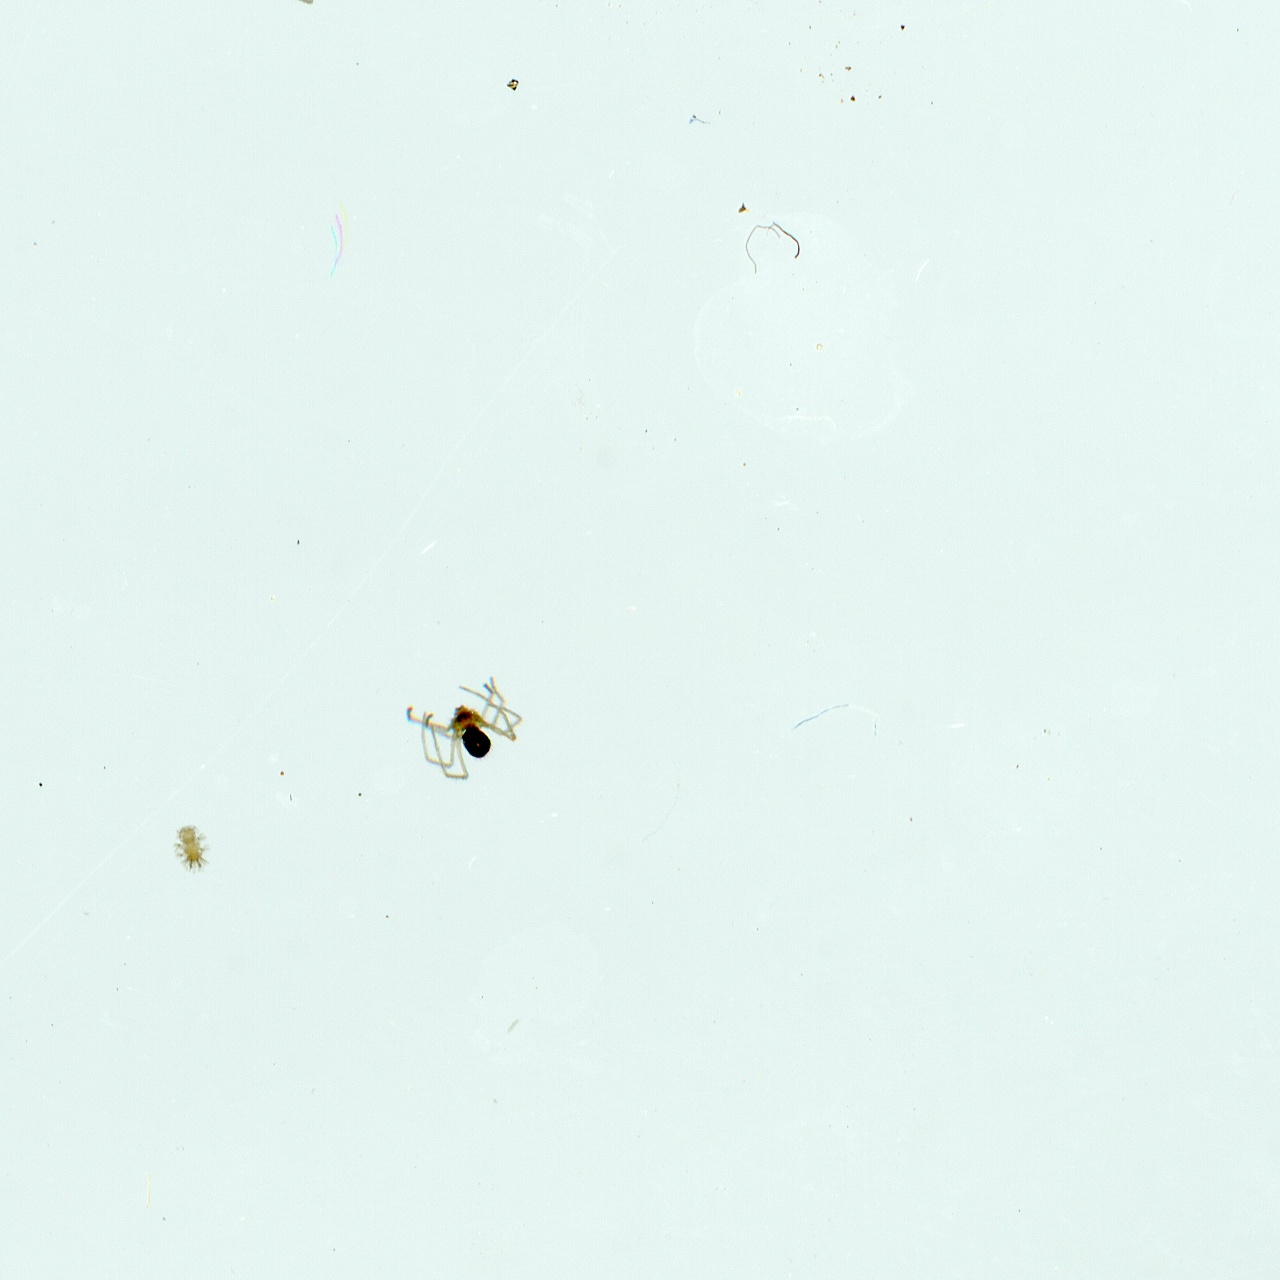arthropod: (393, 654, 539, 798), (169, 821, 215, 874)
